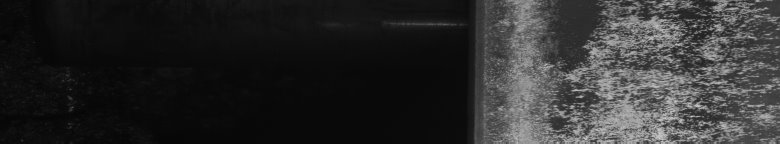kb: (484, 4, 776, 136)
